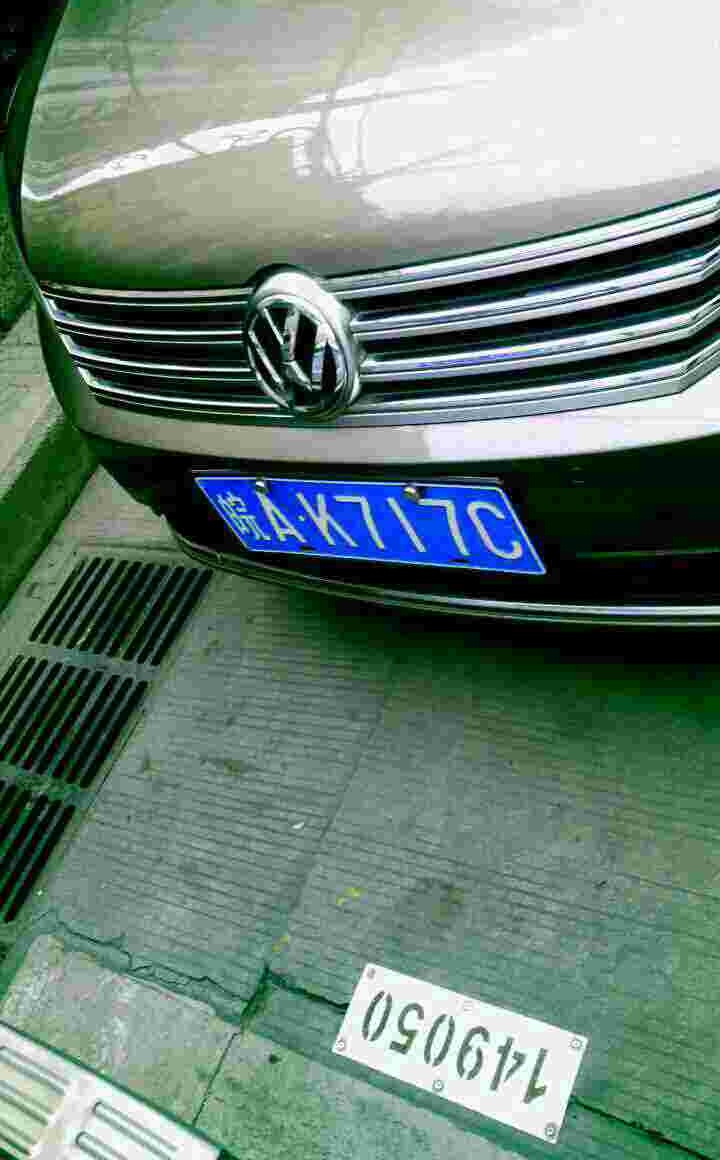license_plate: (202, 465, 551, 579)
